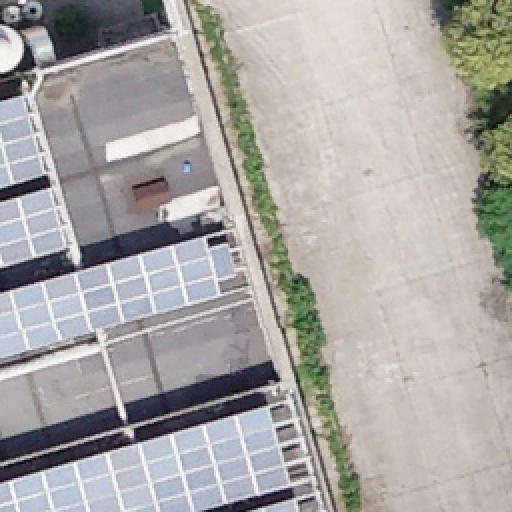solar-panel: (1, 404, 295, 512), (0, 236, 220, 360), (0, 185, 72, 271), (0, 94, 48, 190), (248, 497, 300, 511)
